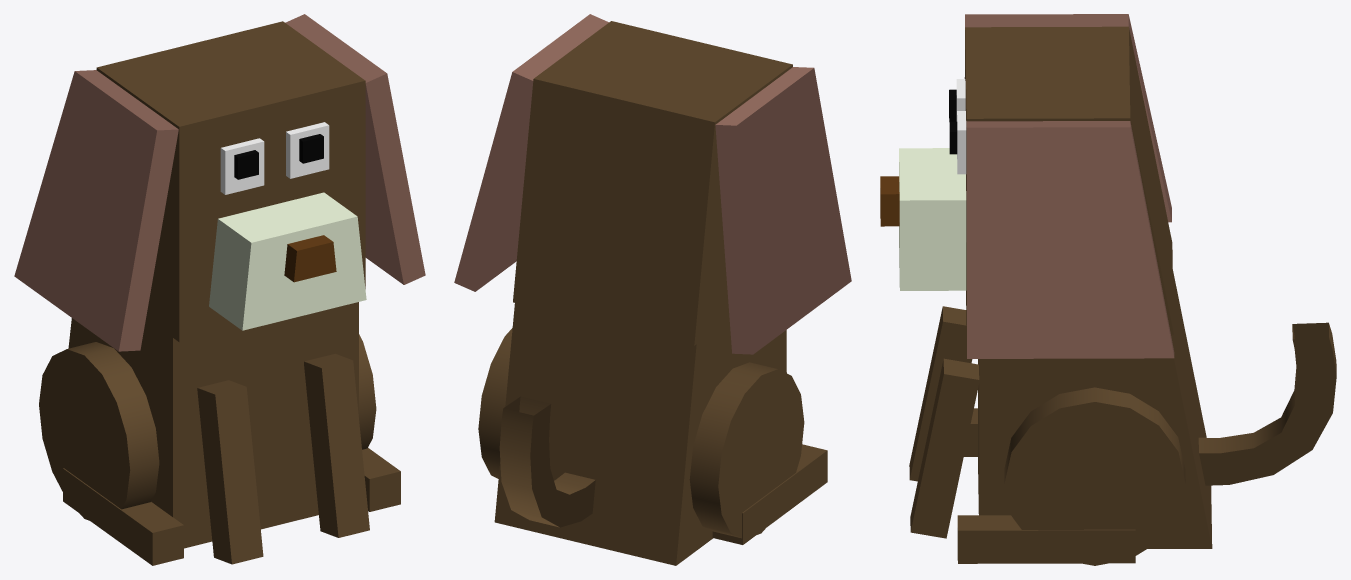
Rendered from dogblack15.dae.
3 views of the same model, side by side, from view 1: azimuth 30°, elevation 25°; view 2: azimuth 150°, elevation 25°; view 3: azimuth 270°, elevation 25° (orthographic). The views are drawn at different scales.
Parts seen in each view (by area): view 1: BODY&HEAD, EAR, back-LEG, for-LEG, NOSE, EYE (×2); view 2: BODY&HEAD, EAR, back-LEG, 自由曲面; view 3: EAR, BODY&HEAD, back-LEG, NOSE, for-LEG, 自由曲面, EYE.
Boxes of the visible parts, bbox=[...] form: BODY&HEAD: bbox=[68, 21, 365, 548]; EAR: bbox=[14, 14, 425, 351]; back-LEG: bbox=[39, 334, 400, 565]; for-LEG: bbox=[197, 353, 369, 564]; NOSE: bbox=[209, 192, 366, 330]; EYE (×2): bbox=[220, 122, 329, 194]; BODY&HEAD: bbox=[494, 21, 792, 565]; EAR: bbox=[454, 14, 851, 354]; back-LEG: bbox=[478, 328, 827, 544]; 自由曲面: bbox=[499, 396, 595, 527]; EAR: bbox=[964, 14, 1174, 358]; BODY&HEAD: bbox=[965, 26, 1212, 548]; back-LEG: bbox=[957, 387, 1185, 565]; NOSE: bbox=[880, 148, 966, 290]; for-LEG: bbox=[909, 306, 979, 538]; 自由曲面: bbox=[1198, 322, 1336, 485]; EYE: bbox=[949, 111, 966, 174].
Bounding box in the file's own units: 0.438 × 0.5856 × 0.5572.
